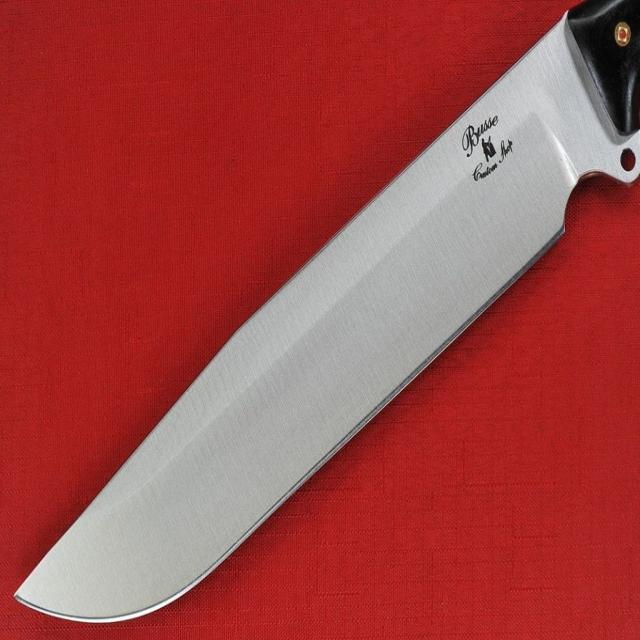Knife: (16, 0, 640, 622)
